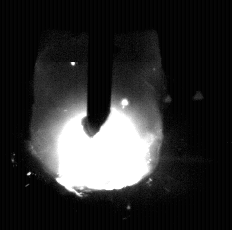arame: (88, 0, 112, 137)
poca: (29, 0, 164, 230)
